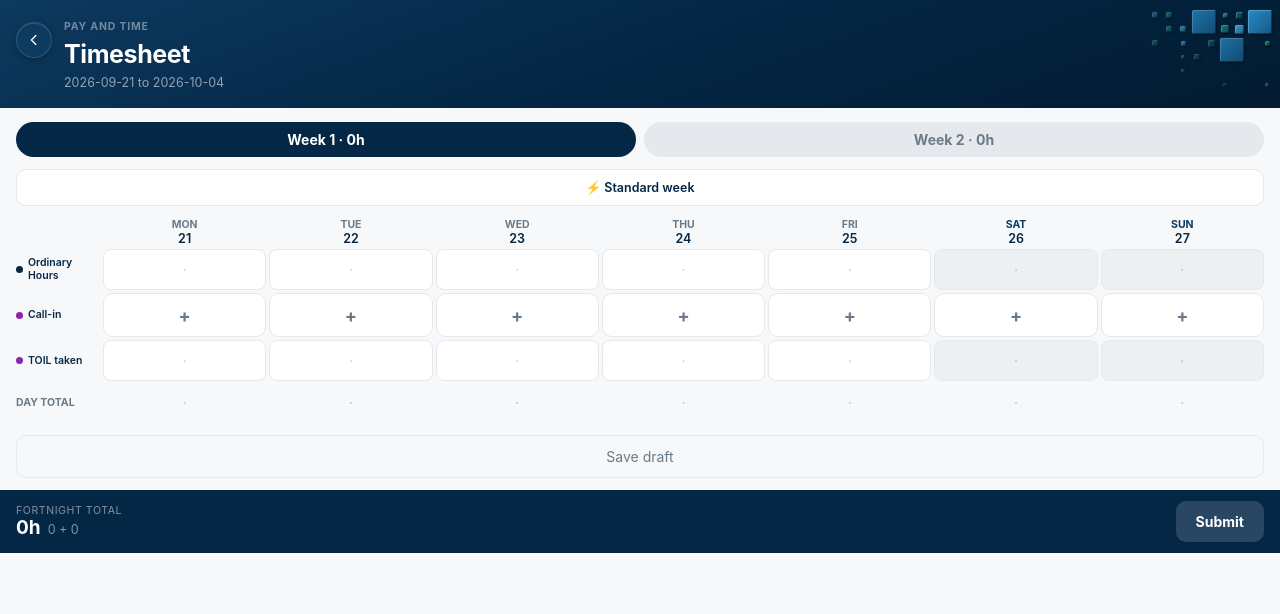
it: call-ins by tapping › each tap adds one, and − takes one off
Check: the text "Call-in" is shown, box [16,308,61,321]
Click the 1st button "+" at (185,315), box [103,293,266,337]
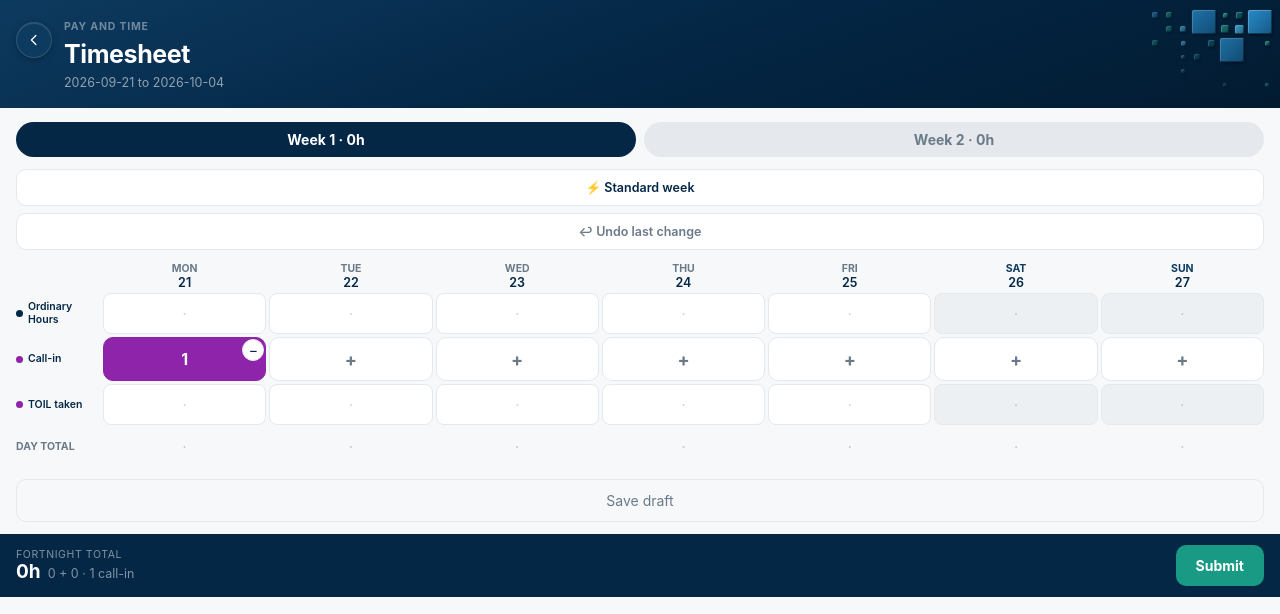
Click the button "1" at (185,359), box [103,337,266,381]
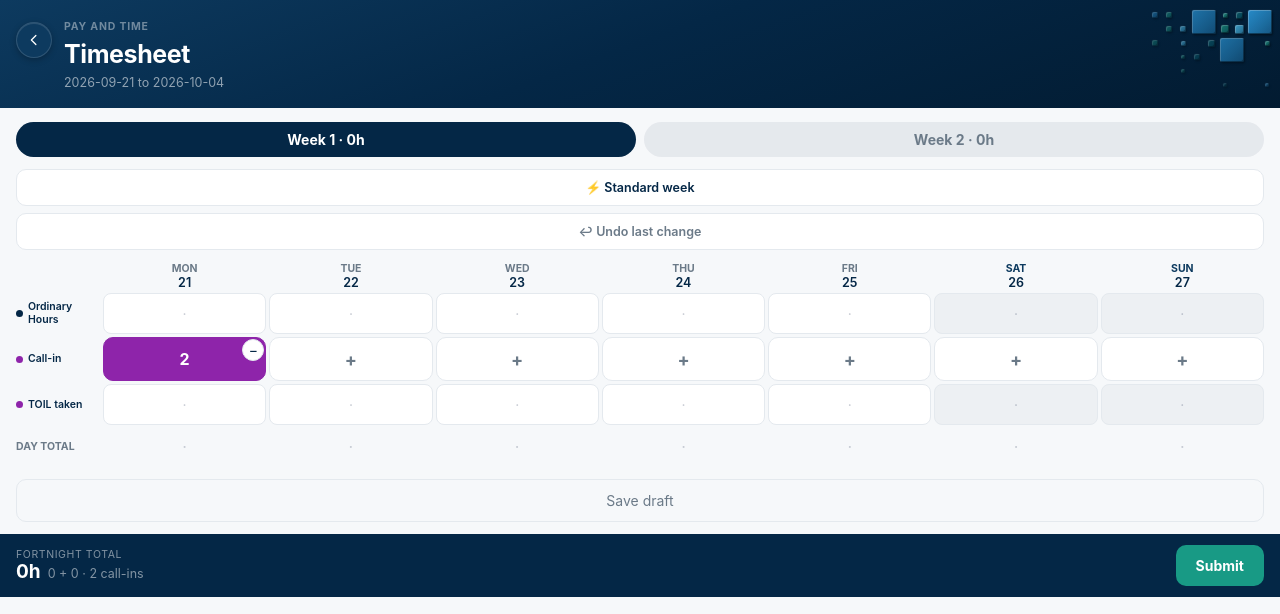
Check: the button "2" is shown, box [103,337,266,381]
Click the button "−" at (253,350), box [242,339,264,361]
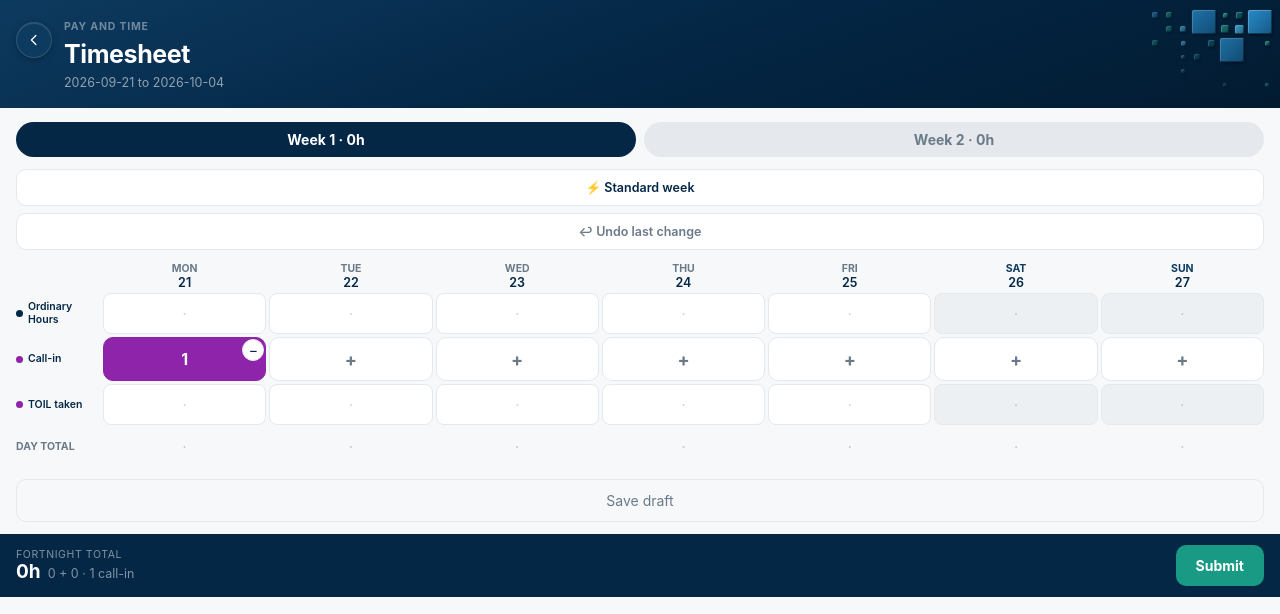
Check: the button "1" is shown, box [103,337,266,381]
Click the button "−" at (253,350), box [242,339,264,361]
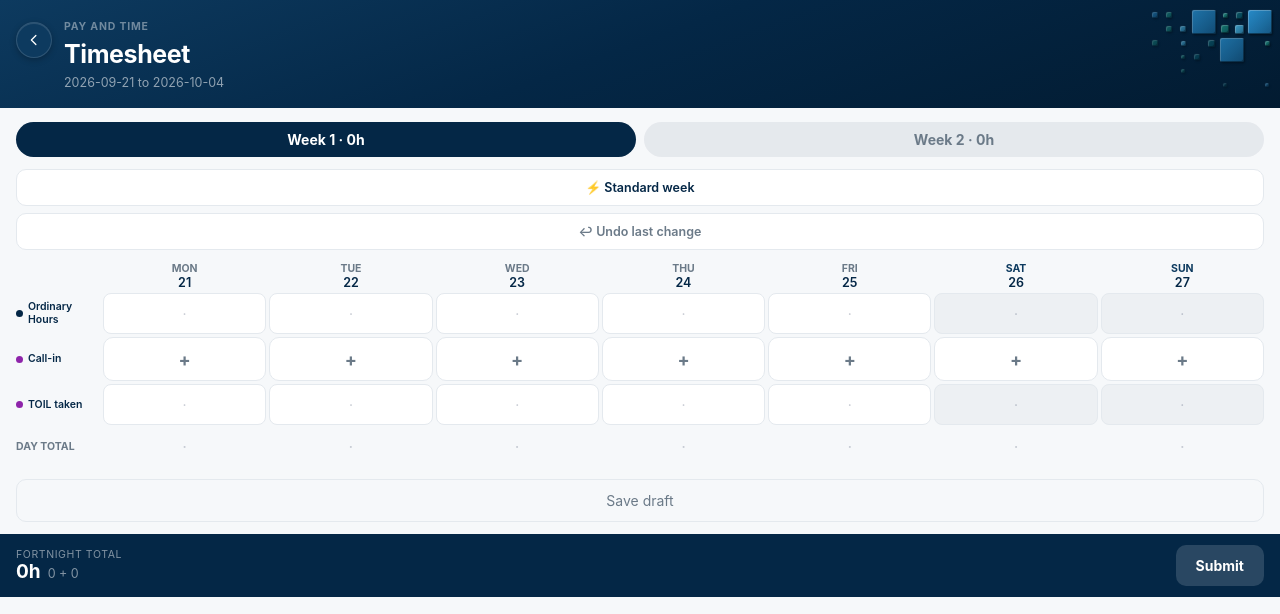
Check: the 1st button "+" is shown, box [103,337,266,381]
